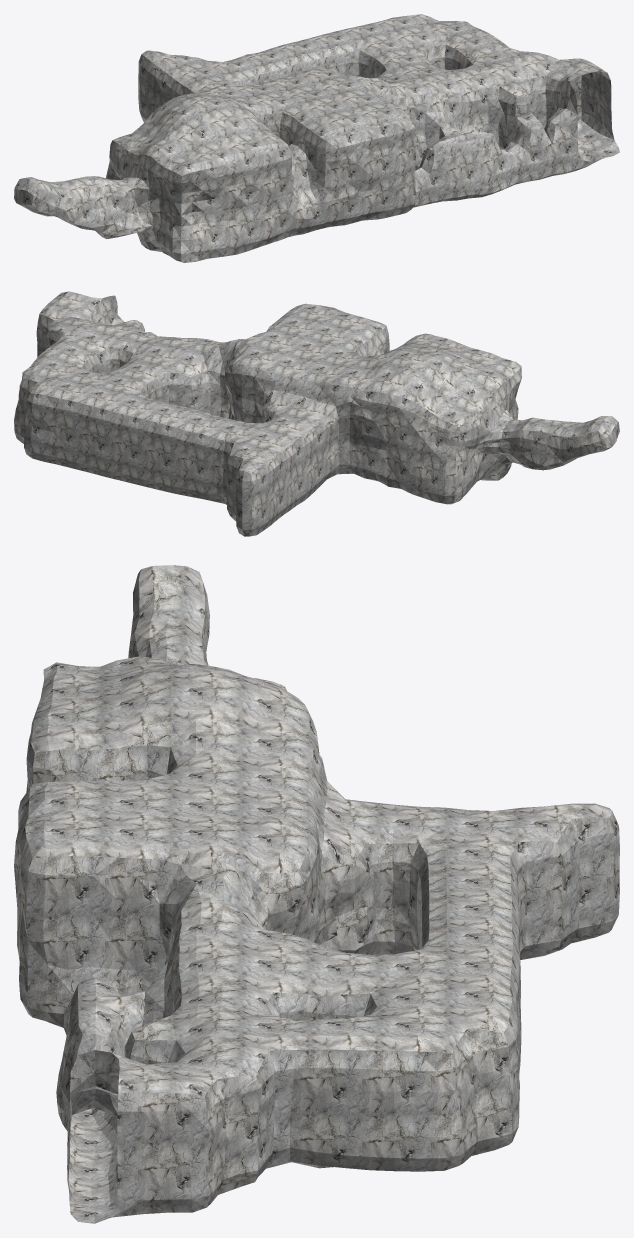
File: cave.obj
The picture shows the model from 3 angles, top to bottom: view 1: azimuth 30°, elevation 25°; view 2: azimuth 150°, elevation 25°; view 3: azimuth 270°, elevation 25°; orthographic projection. The views are drawn at different scales.
Visible parts, largest first — view 1: cave_front, cave_rear, cave_mid, cave_left_rear, cave_left_front; view 2: cave_rear, cave_left_rear, cave_mid, cave_left_front, cave_front; view 3: cave_front, cave_mid, cave_left_front, cave_left_rear, cave_rear.
Boxes of the visible parts, bbox=[...] form: cave_front: bbox=[337, 36, 619, 212]; cave_rear: bbox=[14, 94, 262, 262]; cave_mid: bbox=[190, 67, 409, 246]; cave_left_rear: bbox=[138, 38, 334, 122]; cave_left_front: bbox=[309, 14, 495, 78]; cave_rear: bbox=[373, 339, 619, 504]; cave_left_rear: bbox=[137, 400, 330, 536]; cave_mid: bbox=[231, 303, 447, 481]; cave_left_front: bbox=[14, 348, 160, 484]; cave_front: bbox=[36, 291, 304, 420]; cave_front: bbox=[19, 841, 346, 1223]; cave_mid: bbox=[14, 689, 345, 960]; cave_left_front: bbox=[342, 920, 521, 1171]; cave_left_rear: bbox=[335, 799, 619, 1009]; cave_rear: bbox=[31, 565, 315, 731].
Size of the model in its own units: 1191 by 249 by 603.
1 material, 1 textured.
